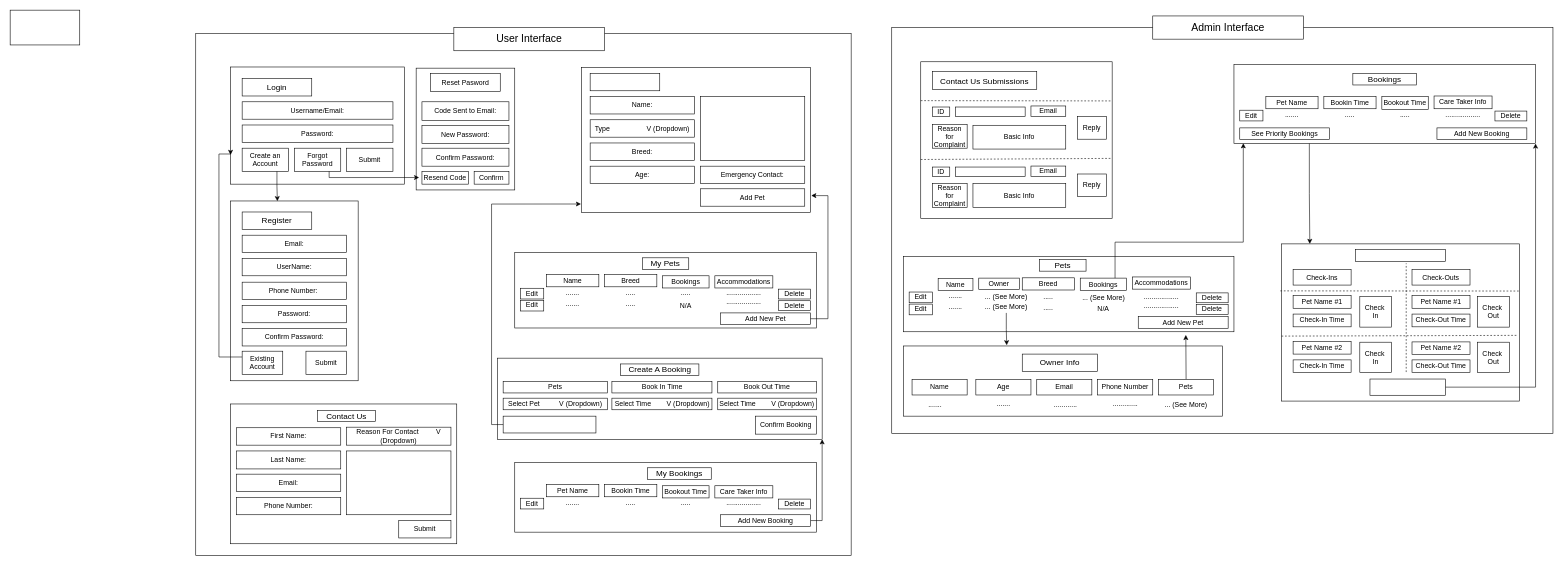
The diagram is 1563 pixels wide and 566 high, and some of its shapes have lost their labels. Here are the shapes that lost their labels. From the top down, the centre of each, then its label:
At (625,82): "Add A Pet".
At (752,128): "Accommodations:".
At (990,111): "Name #1".
At (990,171): "Name #2".
At (1400,255): "Today's Bookings".
At (1407,386): "See All Bookings".
At (549,424): "Pet Not Here? Add Pet".
At (398,482): "Basic Info:".
